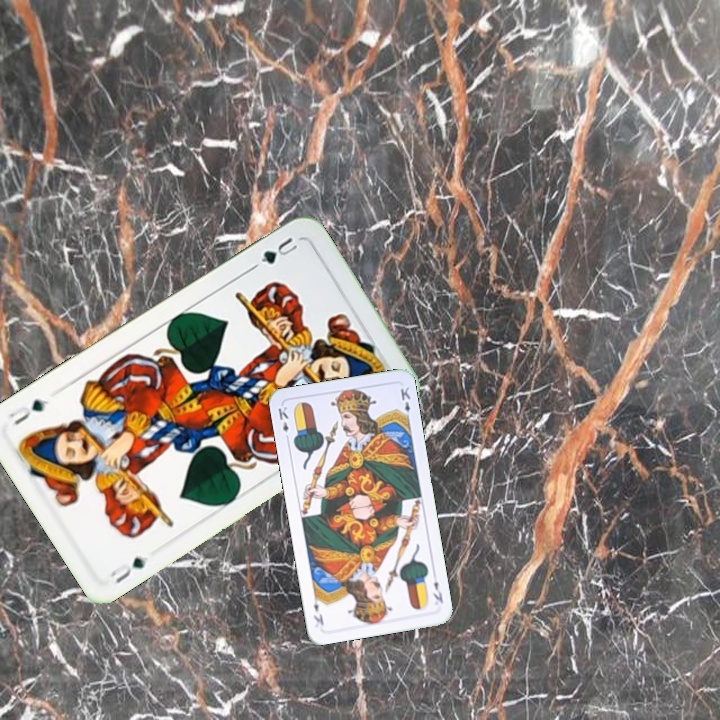EK: (274, 402, 292, 443), (429, 577, 446, 606)
GU: (256, 233, 303, 267), (105, 552, 151, 586)
